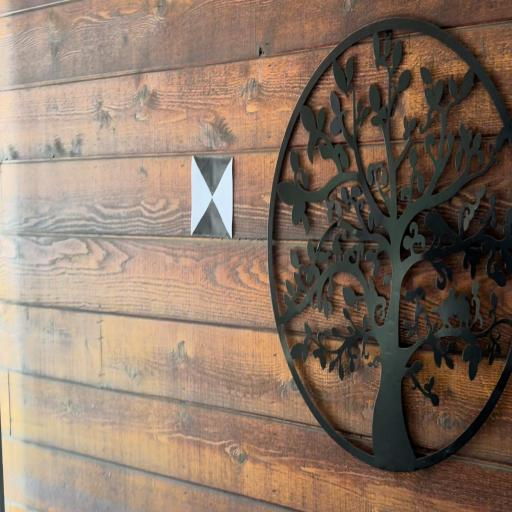target: (192, 156, 231, 236)
